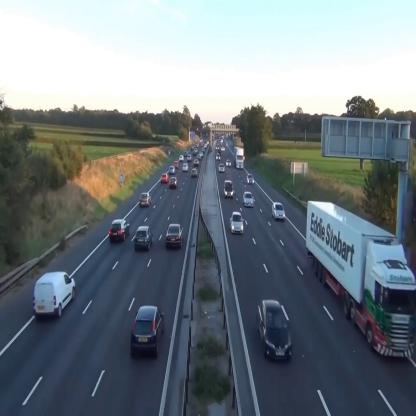car: (255, 300, 294, 364), (33, 271, 76, 318), (131, 304, 165, 362), (134, 226, 154, 252), (109, 219, 130, 242), (166, 224, 184, 250), (230, 211, 244, 234), (272, 202, 285, 220), (224, 180, 235, 198), (139, 192, 152, 207), (243, 191, 254, 208), (246, 172, 255, 186), (169, 177, 178, 189), (161, 172, 169, 184), (218, 164, 226, 172), (168, 166, 176, 173), (182, 163, 188, 172), (226, 158, 231, 168), (191, 169, 197, 177)
lorry: (306, 199, 416, 364), (234, 145, 244, 169)
